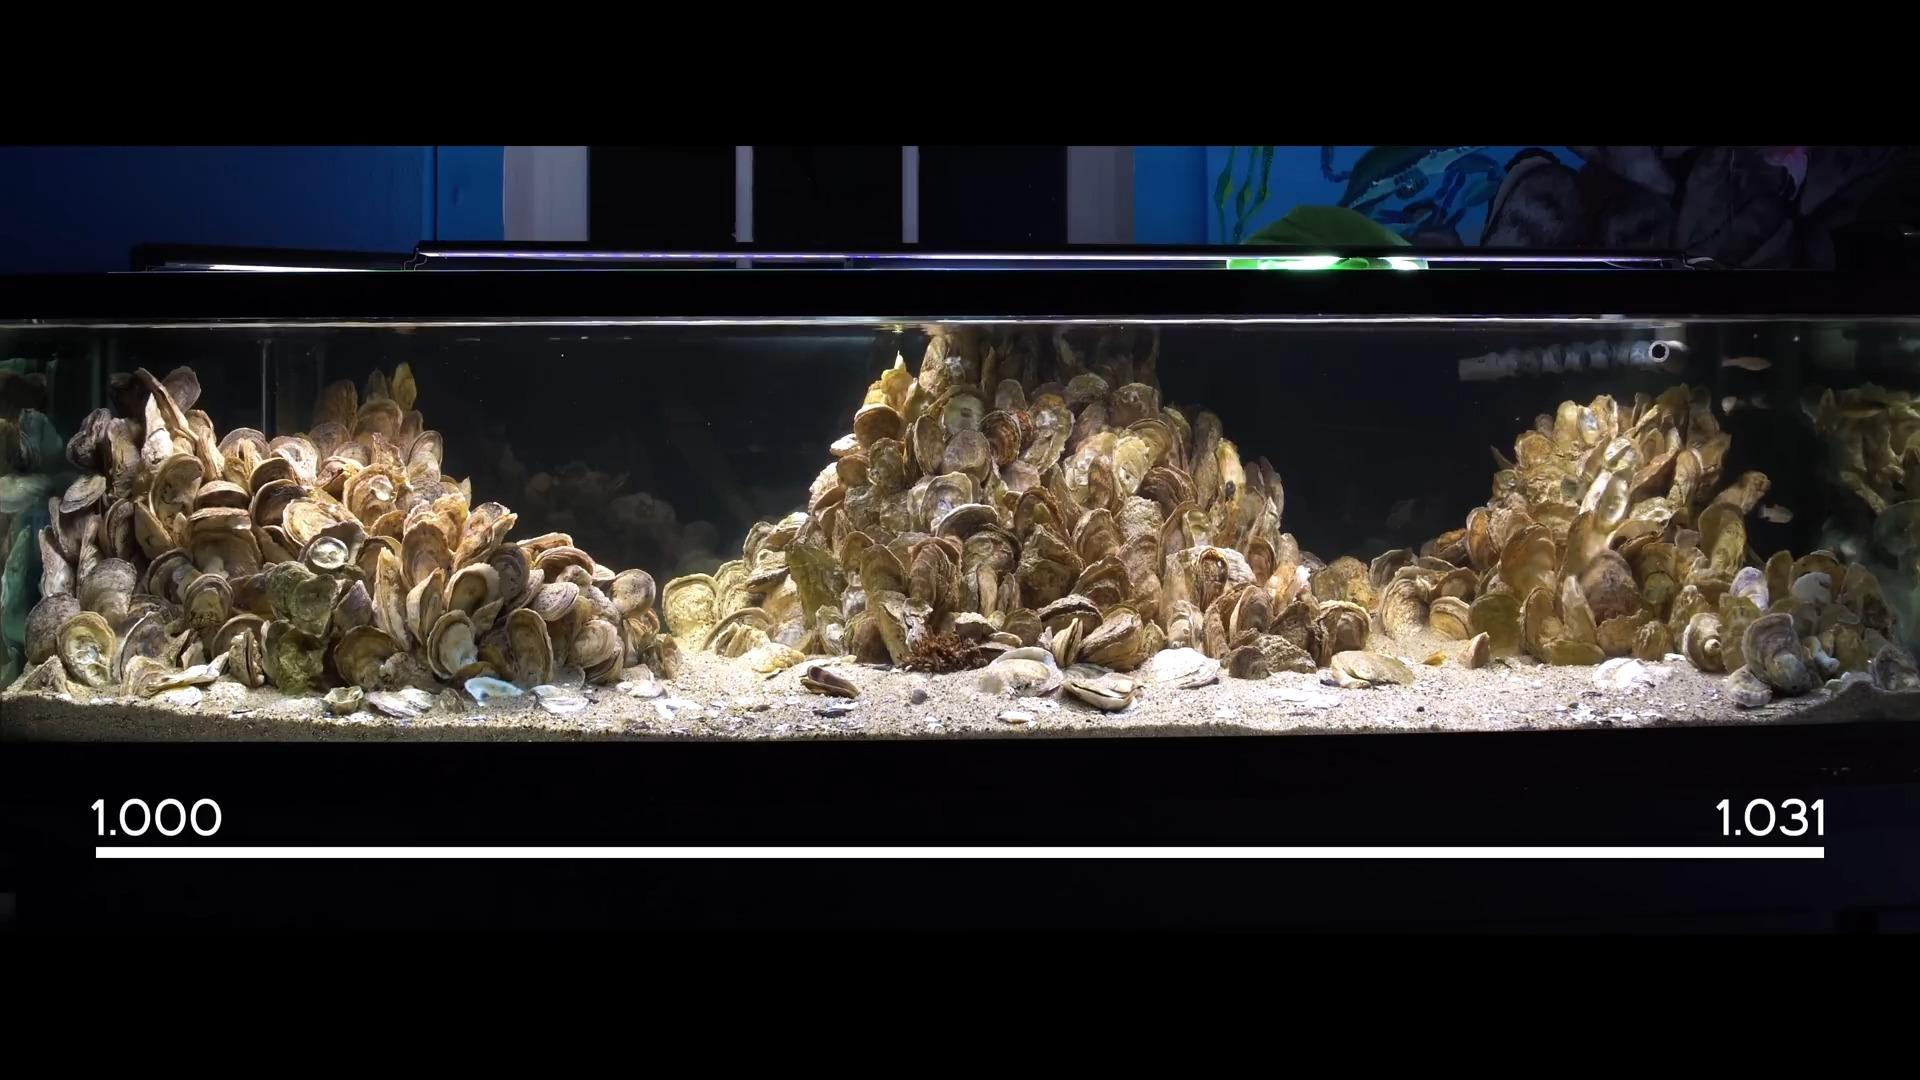Oyster: (261, 545, 361, 636), (113, 364, 206, 456), (1741, 611, 1818, 696), (1522, 585, 1590, 667), (783, 538, 847, 625), (260, 620, 332, 695), (1575, 549, 1643, 626), (179, 504, 262, 566), (330, 622, 401, 691), (1075, 609, 1153, 671), (1499, 527, 1563, 603), (1698, 471, 1772, 533), (57, 612, 117, 687), (278, 493, 355, 553), (115, 612, 177, 684), (977, 646, 1064, 698), (504, 607, 554, 694), (7, 406, 69, 476), (1379, 574, 1439, 646), (1577, 469, 1635, 543), (426, 608, 480, 686), (137, 651, 229, 696), (150, 451, 208, 522), (79, 556, 141, 622), (452, 500, 518, 562), (1466, 589, 1528, 655), (47, 489, 102, 564), (906, 541, 961, 613), (1309, 603, 1374, 665), (659, 574, 720, 640), (210, 613, 272, 676), (175, 570, 237, 633), (401, 520, 452, 593), (65, 405, 117, 476), (571, 617, 626, 684), (1015, 545, 1072, 609), (26, 595, 79, 663), (918, 472, 977, 533), (1189, 543, 1254, 599), (960, 530, 1018, 591), (1072, 558, 1134, 615), (344, 465, 401, 526), (857, 539, 911, 603), (1328, 650, 1414, 690), (34, 522, 78, 600), (1869, 500, 1920, 564), (443, 560, 501, 617), (1309, 554, 1371, 607), (1114, 496, 1166, 559), (3, 654, 73, 700), (1627, 442, 1681, 501), (872, 596, 916, 667), (1035, 593, 1102, 641), (1114, 533, 1166, 595), (1683, 611, 1733, 674), (1064, 438, 1113, 502), (709, 609, 775, 657), (1060, 673, 1138, 712), (935, 500, 1002, 543), (939, 426, 994, 479), (1212, 436, 1247, 517), (851, 400, 905, 452), (407, 568, 443, 647), (864, 436, 910, 496), (301, 529, 360, 574), (1867, 642, 1920, 692), (878, 356, 919, 419), (608, 567, 659, 616), (1427, 595, 1476, 645), (58, 471, 109, 518), (527, 580, 580, 625), (158, 364, 202, 418), (939, 389, 988, 436), (993, 458, 1044, 501), (1722, 666, 1775, 708), (1163, 597, 1201, 654), (364, 688, 427, 720), (1633, 618, 1673, 666), (641, 633, 682, 680), (745, 562, 794, 600), (1789, 568, 1834, 609), (1225, 644, 1273, 680), (1060, 662, 1122, 690), (948, 611, 998, 644), (1729, 566, 1770, 605), (1598, 434, 1638, 475), (1048, 621, 1081, 670), (0, 417, 28, 472), (533, 690, 591, 716), (389, 360, 417, 414), (1456, 630, 1493, 670), (322, 684, 368, 716), (543, 662, 588, 692), (816, 618, 849, 655)
